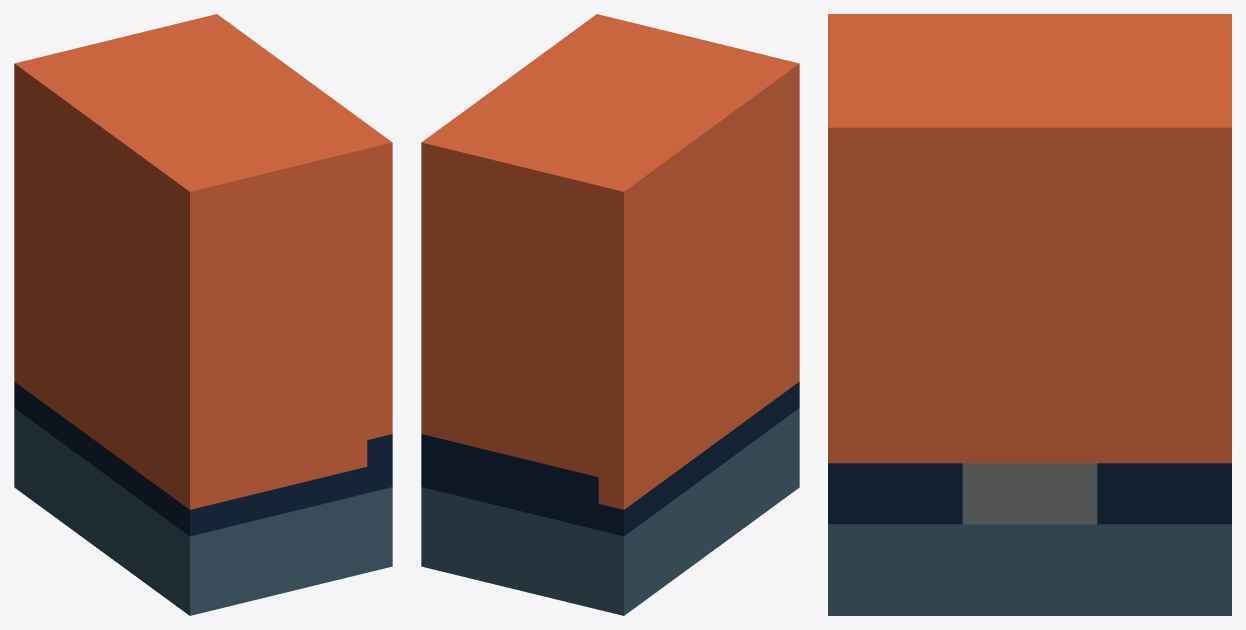
File: player-5.obj
The picture shows the model from 3 angles, left to right: view 1: azimuth 30°, elevation 25°; view 2: azimuth 150°, elevation 25°; view 3: azimuth 270°, elevation 25°; orthographic projection. The views are drawn at different scales.
Bounding box in the file's own units: 0.8 × 1.6 × 1.2.
1 material, 1 textured.
